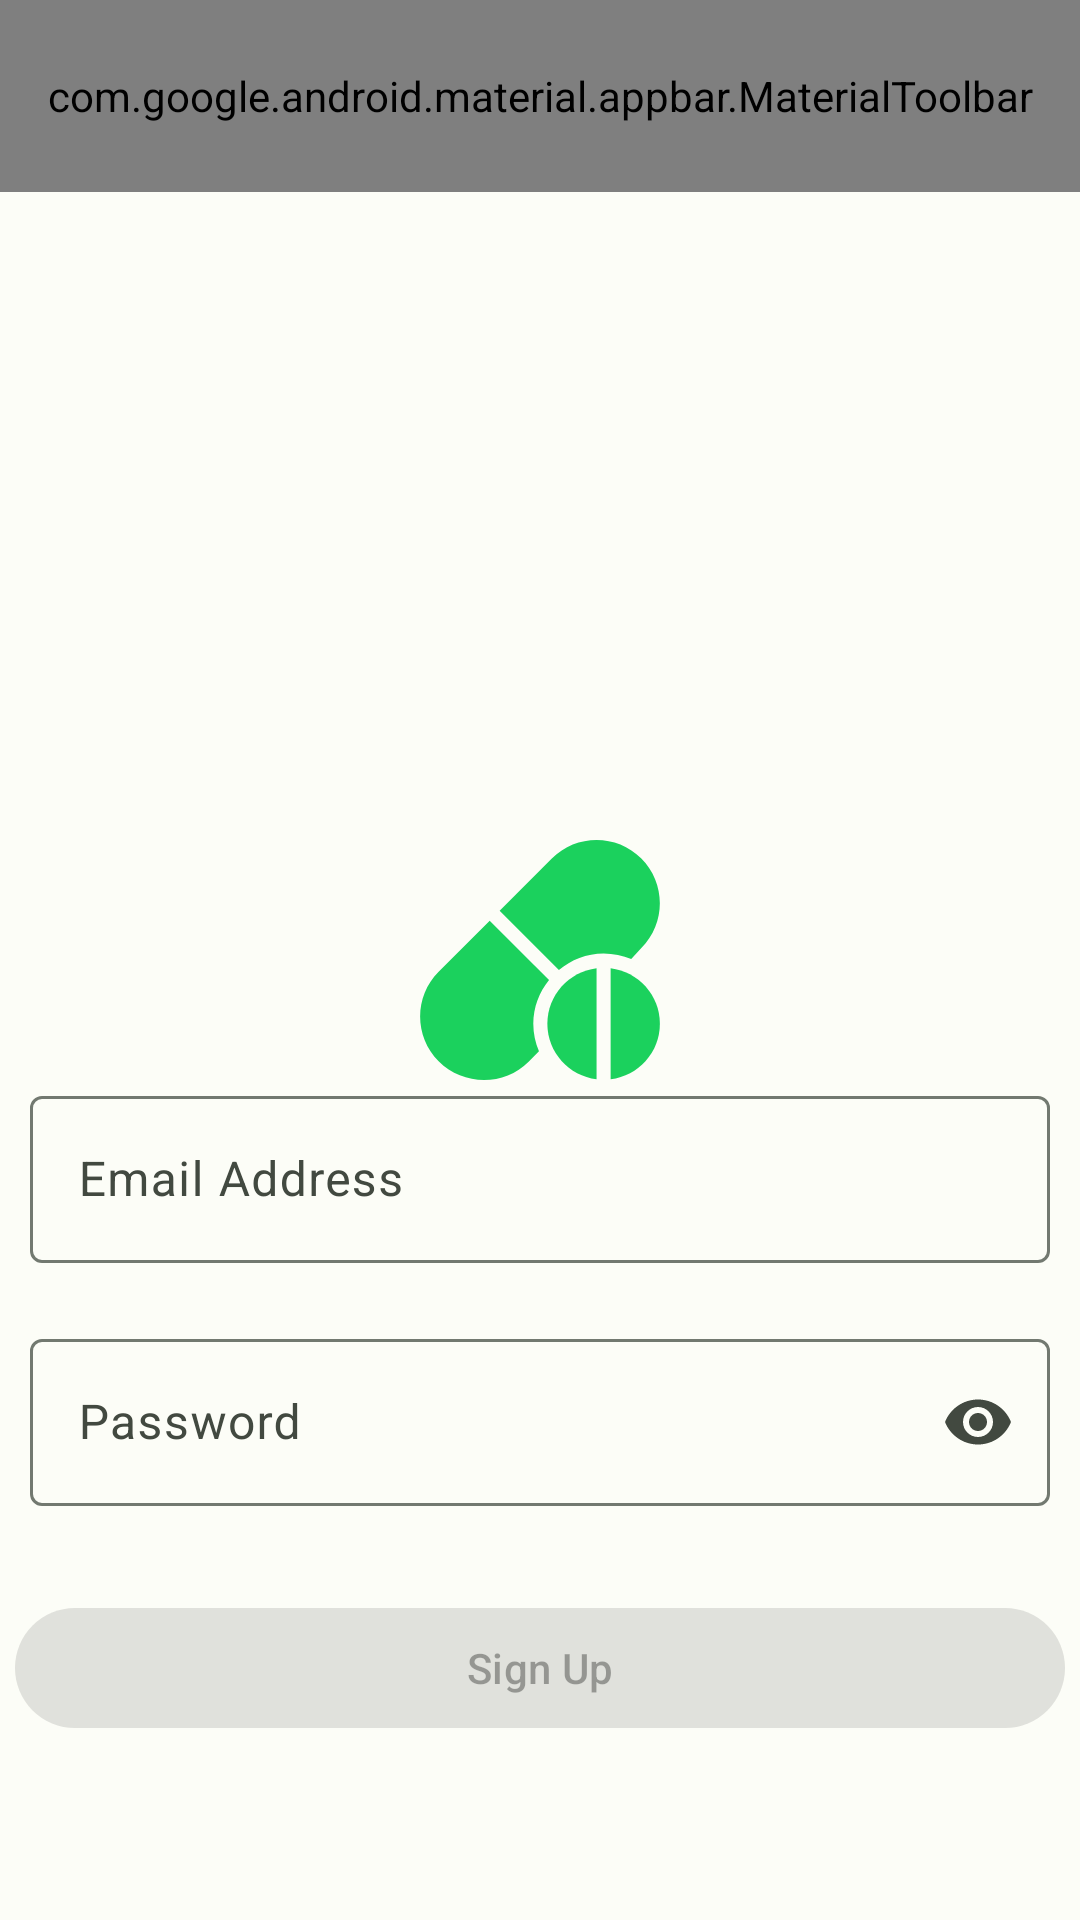

Icons on this 1080w x 1920h Android screen, each with its box as (x1, y1, x2, y2):
App icon: (420, 840, 660, 1080)
